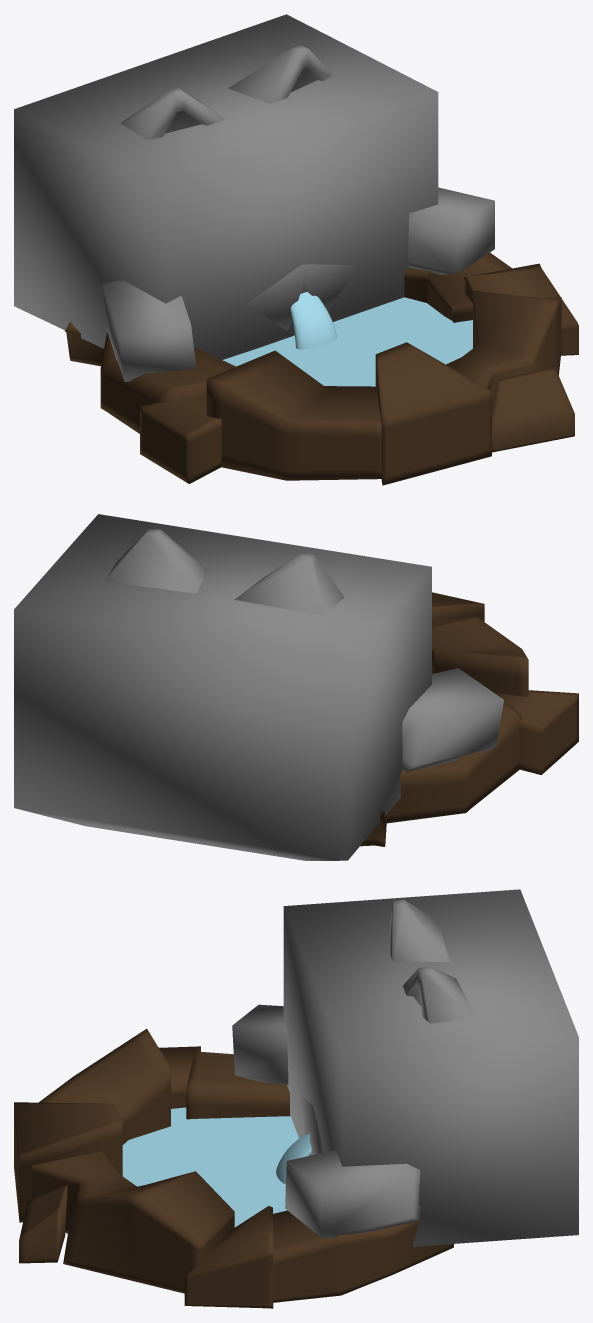
The model's file is cat_fountain.fbx.
3 renders of one model, top to bottom at view 1: azimuth 30°, elevation 25°; view 2: azimuth 150°, elevation 25°; view 3: azimuth 270°, elevation 25°, orthographic.
Parts seen in each view (by area): view 1: cat, Cube.007, stones, water.001, Cube.003, hand_L, hand_R, ears, Cube.012, Cube.013, Cube.011, mouth (+4 smaller); view 2: cat, ears, hand_L, Cube.011, Cube.007, Cube.012, stones, Cube.014; view 3: cat, Cube.003, water.001, Cube.009, hand_R, Cube.007, stones, Cube.010, ears, Cube.011, hand_L, Cube.013 (+3 smaller).
Part boxes in pixels (left/top/right/bottom): cat: left=14, top=14, right=438, bottom=359; Cube.007: left=206, top=350, right=381, bottom=480; stones: left=375, top=342, right=491, bottom=485; water.001: left=222, top=297, right=472, bottom=386; Cube.003: left=446, top=290, right=561, bottom=408; hand_L: left=102, top=280, right=196, bottom=381; hand_R: left=407, top=187, right=494, bottom=274; ears: left=120, top=45, right=332, bottom=139; Cube.012: left=140, top=394, right=221, bottom=483; Cube.013: left=492, top=367, right=574, bottom=452; Cube.011: left=100, top=331, right=235, bottom=433; mouth: left=249, top=264, right=356, bottom=330; cat: left=14, top=514, right=431, bottom=860; ears: left=105, top=529, right=344, bottom=615; hand_L: left=401, top=668, right=503, bottom=771; Cube.011: left=386, top=704, right=521, bottom=823; Cube.007: left=432, top=616, right=528, bottom=696; Cube.012: left=495, top=690, right=578, bottom=774; stones: left=432, top=592, right=484, bottom=627; Cube.014: left=360, top=811, right=386, bottom=846; cat: left=283, top=889, right=578, bottom=1246; Cube.003: left=31, top=1151, right=234, bottom=1293; water.001: left=122, top=1107, right=298, bottom=1227; Cube.009: left=273, top=1210, right=453, bottom=1302; hand_R: left=285, top=1150, right=421, bottom=1238; Cube.007: left=39, top=1028, right=170, bottom=1144; stones: left=14, top=1102, right=122, bottom=1222; Cube.010: left=184, top=1206, right=273, bottom=1308; ears: left=388, top=900, right=476, bottom=1023; Cube.011: left=186, top=1052, right=290, bottom=1119; hand_L: left=232, top=1004, right=288, bottom=1084; Cube.013: left=19, top=1185, right=67, bottom=1263.
Bounding box in the file's own units: 528 × 300 × 590.
